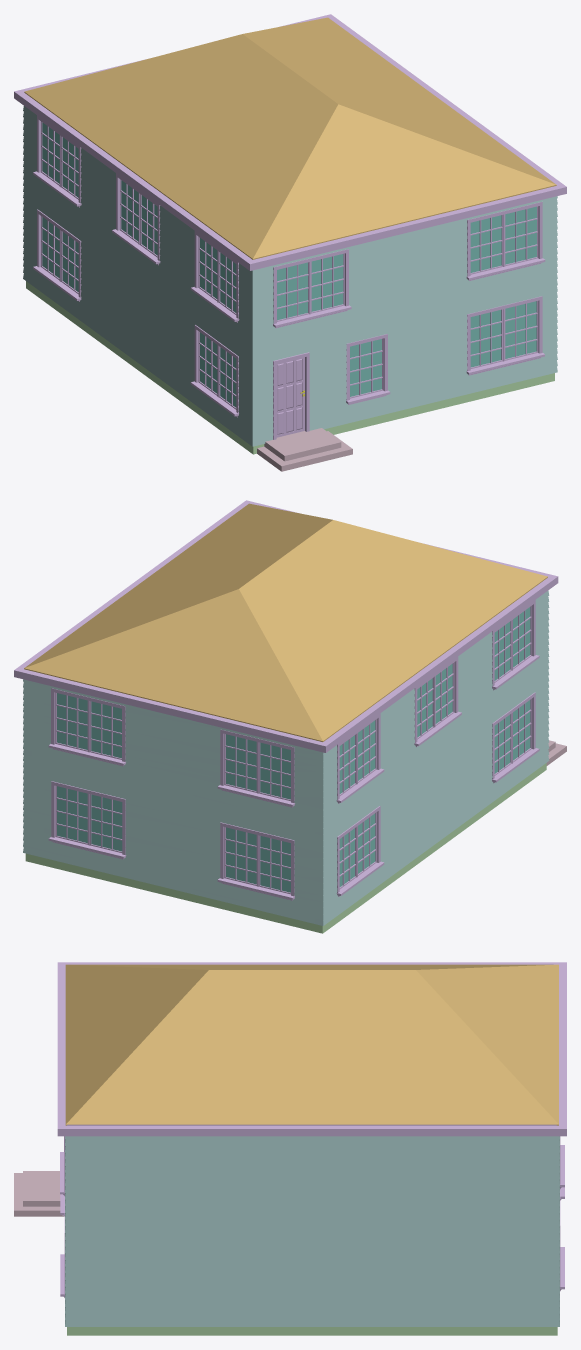
File: House_2_1.FBX
The picture shows the model from 3 angles, top to bottom: view 1: azimuth 30°, elevation 25°; view 2: azimuth 150°, elevation 25°; view 3: azimuth 270°, elevation 25°; orthographic projection. The views are drawn at different scales.
Visible parts, largest first — view 1: H2-mod_1_LOD0; view 2: H2-mod_1_LOD0; view 3: H2-mod_1_LOD0.
Boxes of the visible parts, x1,y1,x2,y2 form: H2-mod_1_LOD0: (14,14,566,471); H2-mod_1_LOD0: (14,500,566,933); H2-mod_1_LOD0: (14,962,566,1335).
Size of what is drawn, in the model's own units: 966 by 773 by 1353.
